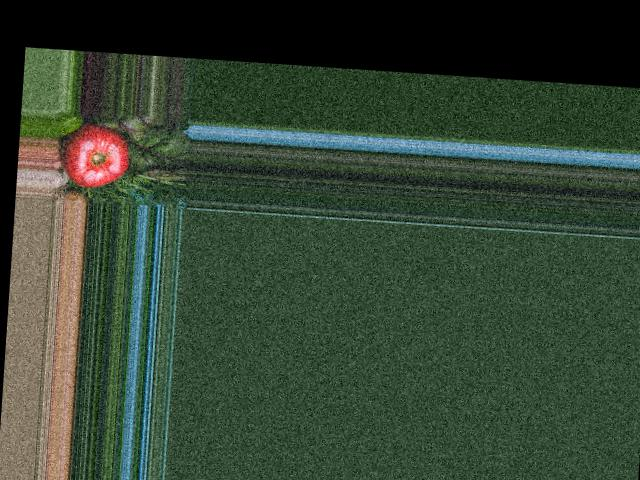tomato: (57, 120, 130, 189)
